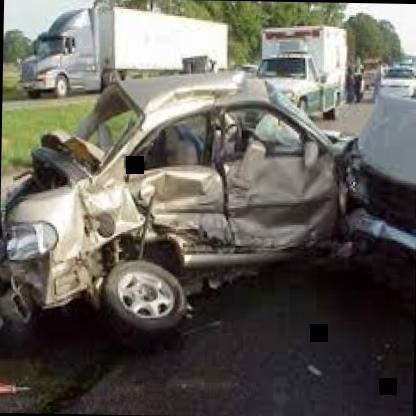accident: (0, 75, 416, 357)
